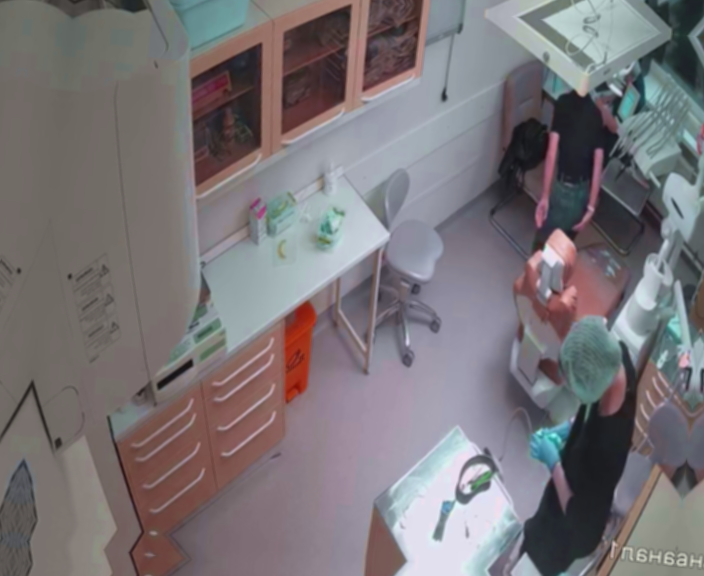Empty: (500, 220, 640, 404)
